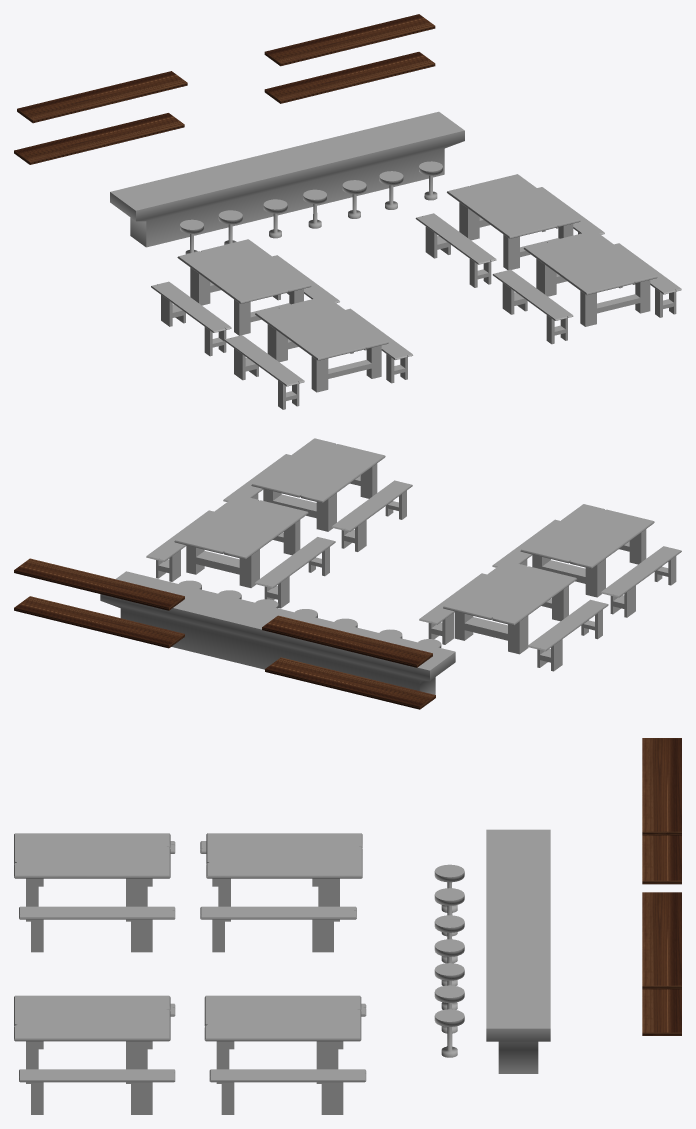
Rendered from interior_saloon.fbx.
3 views of the same model, one above another, from view 1: azimuth 30°, elevation 25°; view 2: azimuth 150°, elevation 25°; view 3: azimuth 270°, elevation 25° (orthographic). The views are drawn at different scales.
Parts seen in each view (by area): view 1: pCube1, table:pCube9, pCube23, pCube9, pCube26, pCube5, pCube4, pCube2, pCube3, pCube27, pCube24, pCube20 (+4 smaller); view 2: pCube1, pCube9, pCube26, table:pCube9, pCube23, pCube3, pCube4, pCube2, pCube5, pCube21, pCube20, pCube24 (+5 smaller); view 3: pCube1, pCube26, pCube23, pCube9, table:pCube9, pCube2, pCube5, pCube28, pCube19, pCube22, pCube25, pCube3 (+8 smaller).
Boxes of the visible parts, box(x1,y1,x2,y2) form: pCube1: box(110, 111, 464, 247); table:pCube9: box(255, 296, 388, 392); pCube23: box(523, 230, 657, 326); pCube9: box(177, 239, 311, 335); pCube26: box(447, 174, 580, 269); pCube5: box(264, 14, 435, 66); pCube4: box(264, 52, 435, 103); pCube2: box(17, 71, 187, 123); pCube3: box(14, 113, 184, 164); pCube27: box(415, 213, 496, 287); pCube24: box(492, 269, 573, 344); pCube20: box(151, 281, 231, 356); pCube1: box(100, 571, 455, 694); pCube9: box(443, 561, 576, 654); pCube26: box(174, 494, 308, 587); table:pCube9: box(520, 504, 654, 597); pCube23: box(251, 438, 385, 531); pCube3: box(265, 657, 435, 709); pCube4: box(14, 596, 184, 648); pCube2: box(262, 615, 432, 667); pCube5: box(14, 558, 184, 610); pCube21: box(601, 546, 681, 617); pCube20: box(527, 599, 608, 671); pCube24: box(331, 480, 412, 551); pCube1: box(486, 829, 550, 1073); pCube26: box(204, 995, 361, 1083); pCube23: box(14, 995, 170, 1083); pCube9: box(206, 833, 362, 921); table:pCube9: box(14, 833, 170, 921); pCube2: box(642, 738, 681, 835); pCube5: box(642, 892, 681, 989); pCube28: box(209, 1069, 366, 1114); pCube19: box(200, 906, 356, 952); pCube22: box(19, 906, 175, 952); pCube25: box(19, 1069, 175, 1114); pCube3: box(642, 835, 681, 884).
Bounding box in the file's own units: 14.62 × 3.79 × 16.82.
